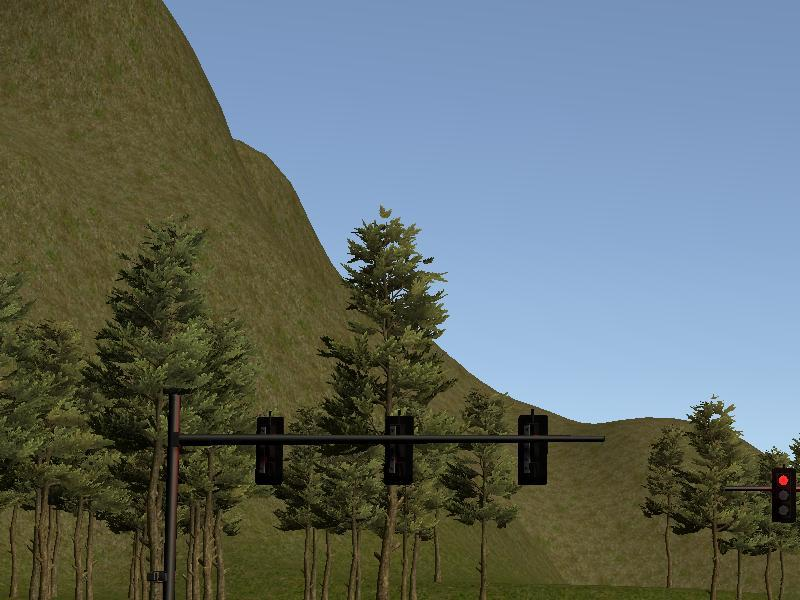Red: (770, 467, 795, 524)
